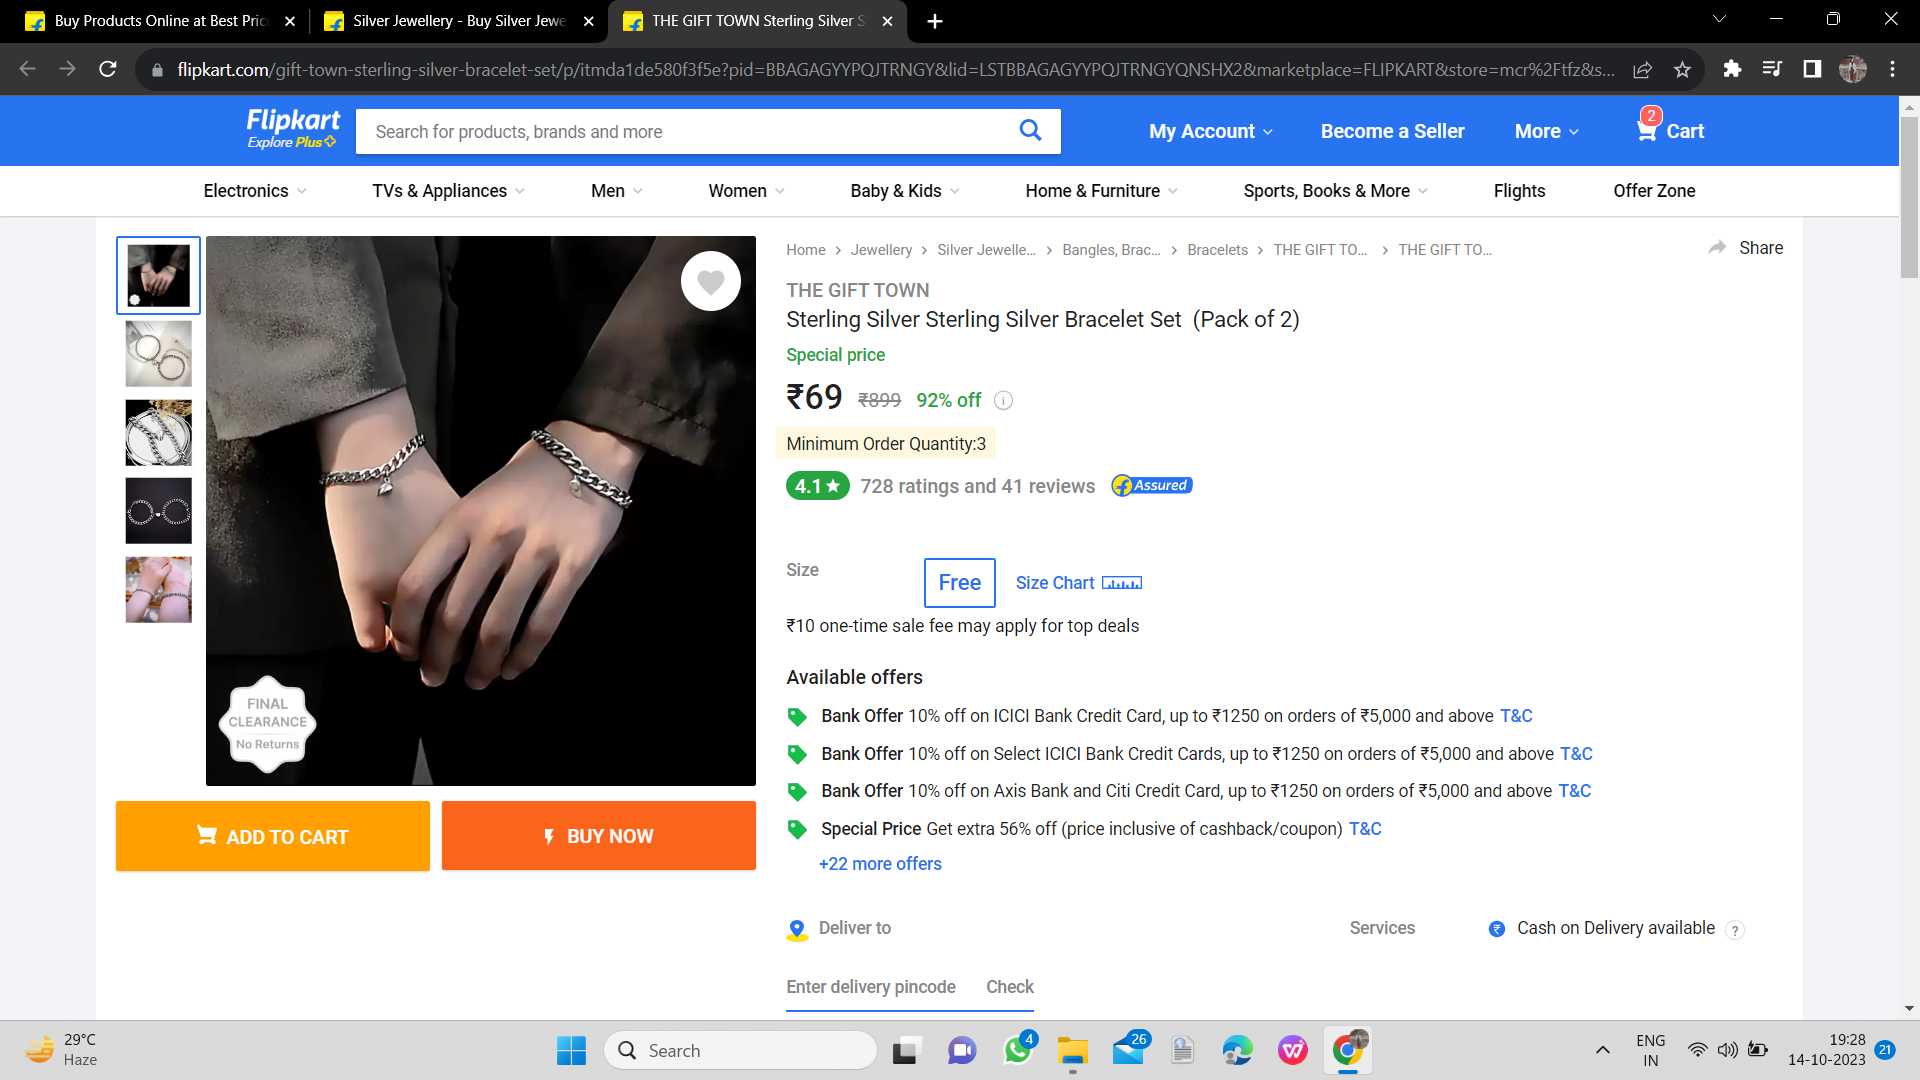Image: (203, 228, 756, 789)
Paragraph: (765, 711, 1638, 885), (92, 793, 765, 893), (779, 273, 1313, 340), (1117, 104, 1726, 156), (778, 340, 1013, 455), (793, 893, 1035, 1004), (775, 542, 1171, 609), (779, 459, 1211, 513), (1335, 907, 1724, 948), (773, 613, 1142, 641), (773, 655, 924, 690)
